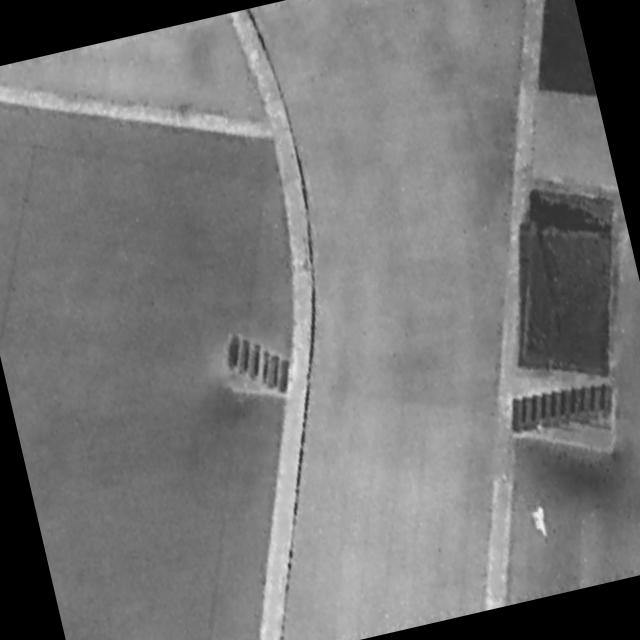person: (530, 504, 552, 541)
